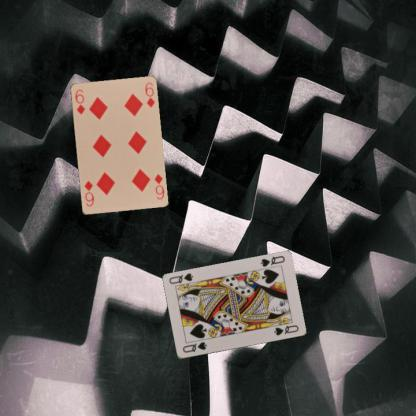6d: (72, 86, 86, 116), (152, 171, 166, 201)
Qs: (180, 339, 208, 354), (258, 254, 286, 268)
